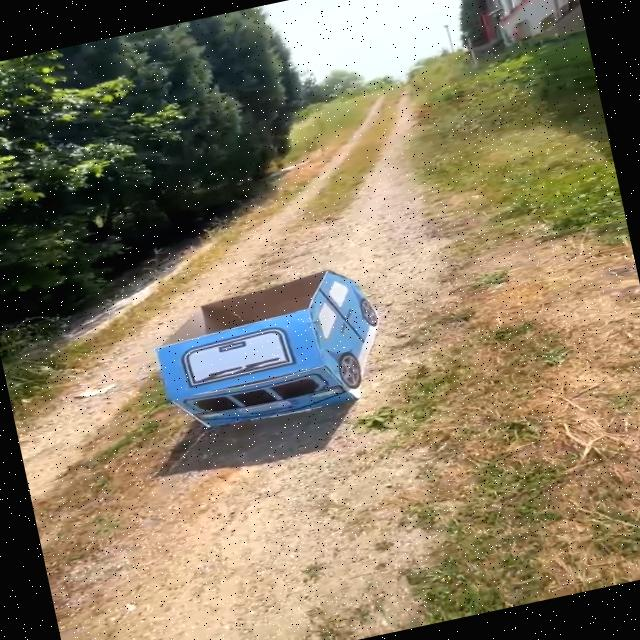blue_car: (124, 242, 428, 464)
